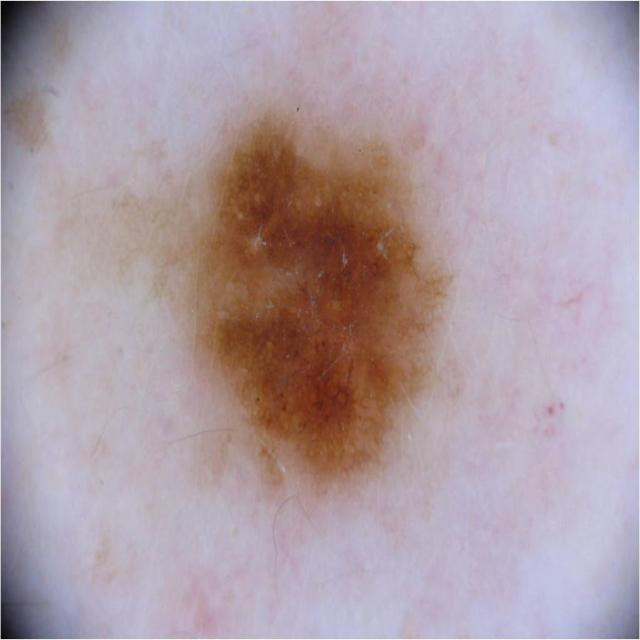Benign: (169, 110, 455, 498)
